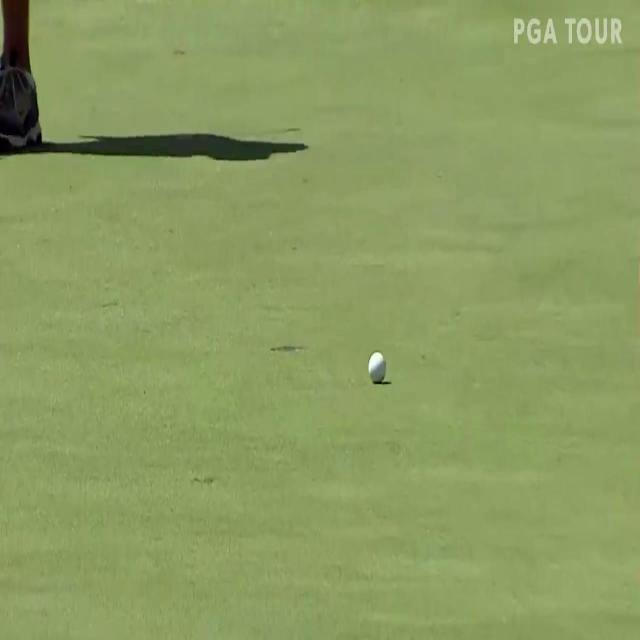GolfBall: (360, 341, 396, 398)
